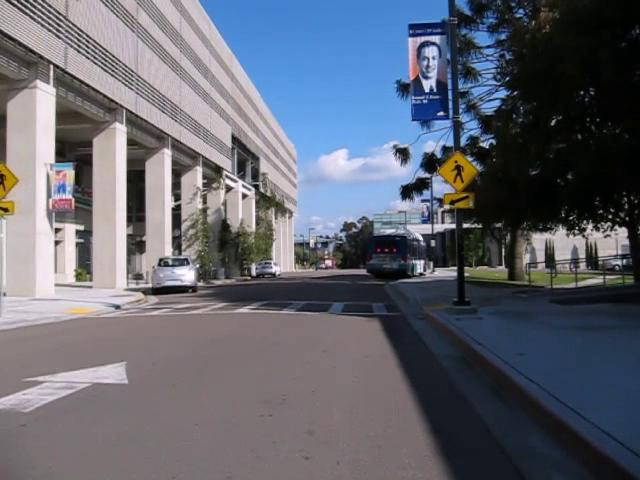pedestrianCrossing: (437, 149, 479, 192)
